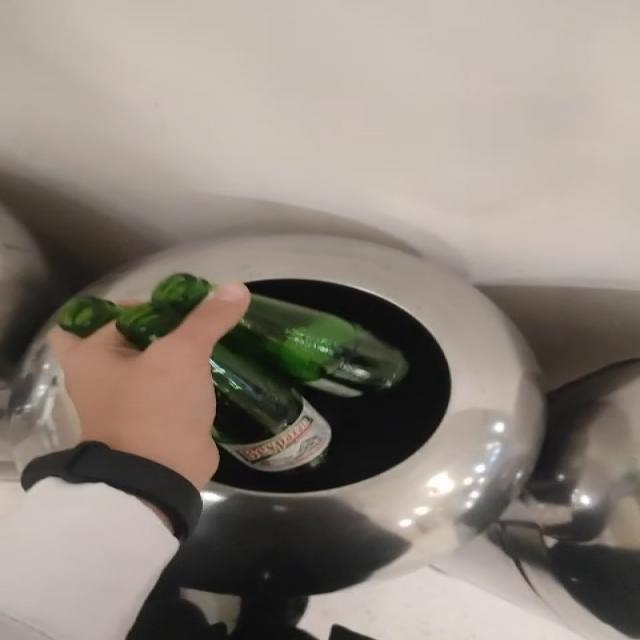Glass: (211, 294, 408, 472), (56, 274, 211, 350)
